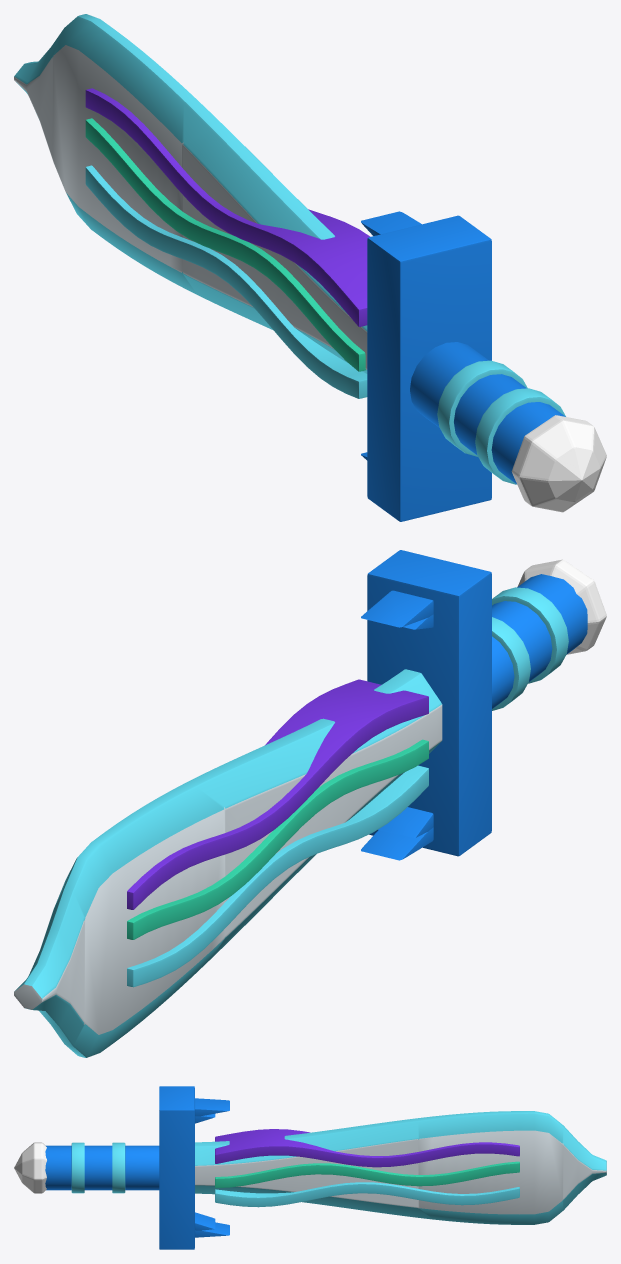
File: Sword_AuroraGreatblade.glb
3 renders of one model, top to bottom at view 1: azimuth 30°, elevation 25°; view 2: azimuth 150°, elevation 25°; view 3: azimuth 270°, elevation 25°, orthographic. The views are drawn at different scales.
Parts seen in each view (by area): view 1: Sword_AuroraGreatblade; view 2: Sword_AuroraGreatblade; view 3: Sword_AuroraGreatblade.
Boxes of the visible parts, x1,y1,x2,y2 form: Sword_AuroraGreatblade: [14, 14, 606, 521]; Sword_AuroraGreatblade: [14, 550, 606, 1057]; Sword_AuroraGreatblade: [14, 1086, 606, 1249].
Size of the model in its own units: 0.096 by 0.26 by 1.
Materials: 1 (1 with a texture image).
